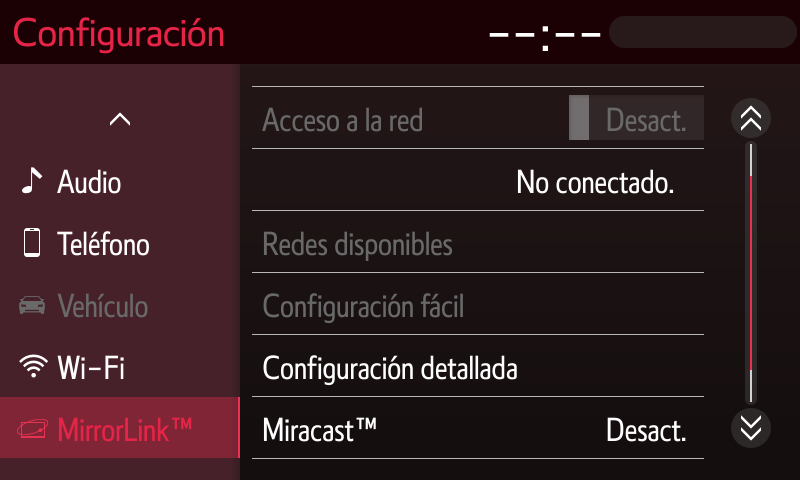touchPart: (249, 331, 708, 403), (248, 394, 709, 462), (12, 221, 166, 271), (11, 345, 129, 387), (16, 163, 128, 201), (725, 409, 776, 451), (728, 98, 774, 135), (100, 104, 137, 133)
untouchPart: (247, 79, 710, 153), (250, 204, 712, 277), (250, 269, 709, 339), (2, 394, 245, 462), (482, 10, 795, 54), (14, 11, 225, 53), (6, 288, 180, 331)
